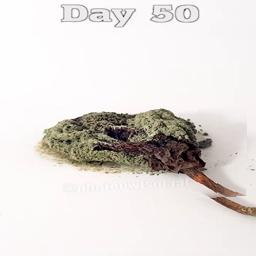Pear Rotten: (35, 109, 248, 208)
